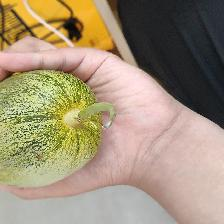gua: (8, 81, 108, 173)
